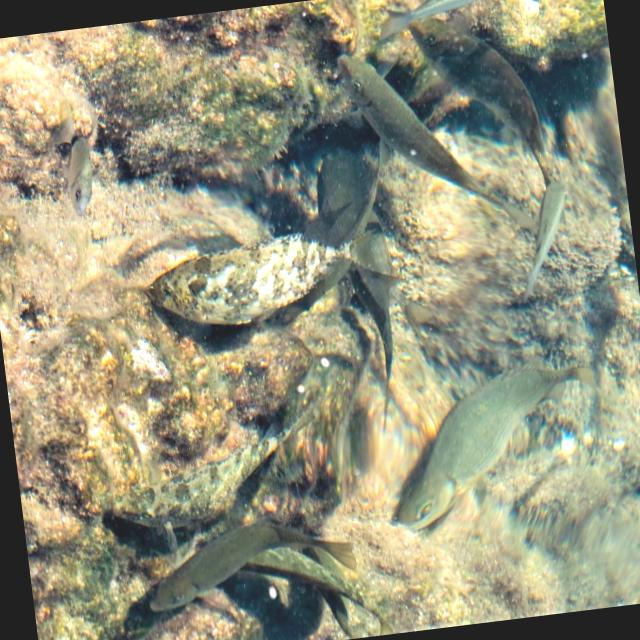Sokar Baligi: (123, 177, 413, 343)
